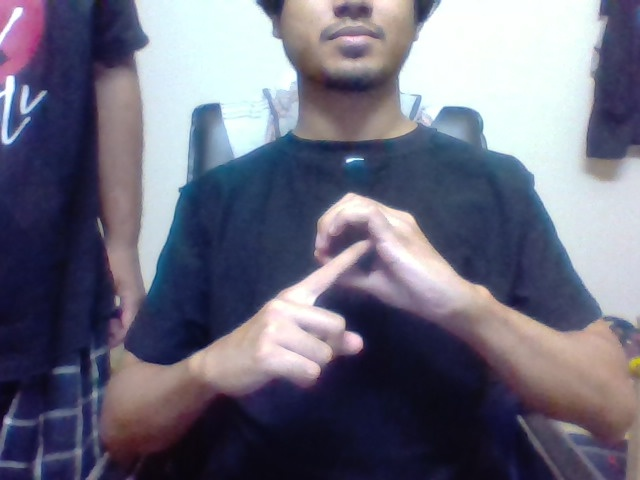Q: (324, 208, 394, 289)
